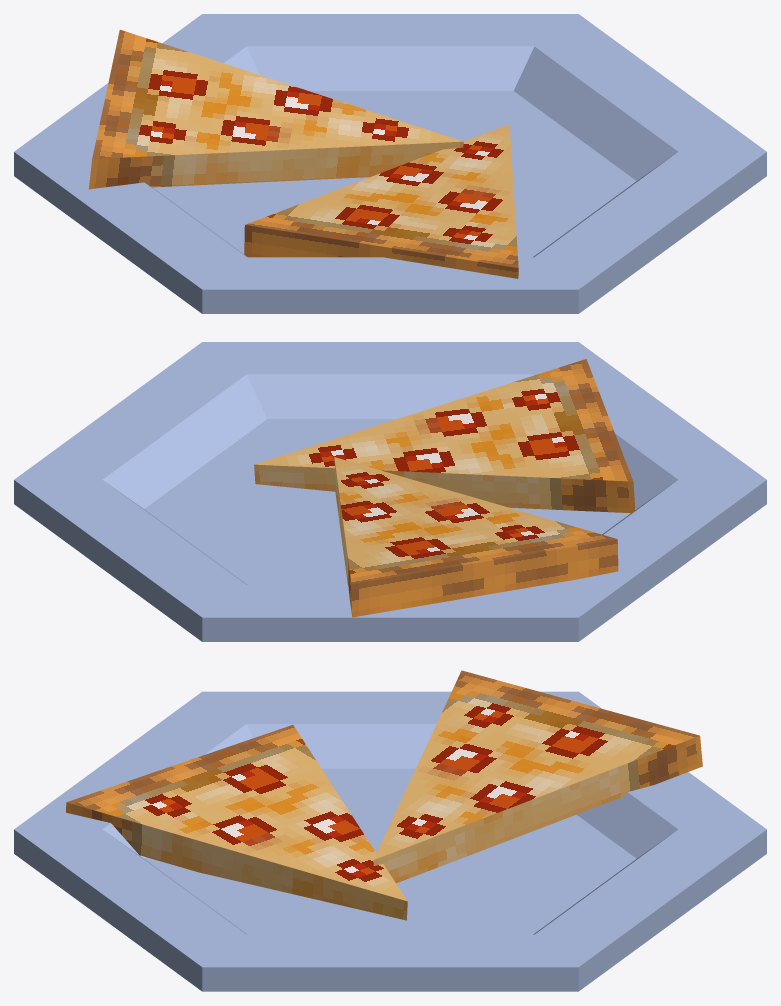
Rendered from PizzaPlate.fbx.
The picture shows the model from 3 angles, top to bottom: view 1: azimuth 30°, elevation 25°; view 2: azimuth 150°, elevation 25°; view 3: azimuth 270°, elevation 25°; orthographic projection.
Parts seen in each view (by area): view 1: Plate.001, Pizza.001, Pizza; view 2: Plate.001, Pizza, Pizza.001; view 3: Plate.001, Pizza.001, Pizza.
Boxes of the visible parts, x1,y1,x2,y2 form: Plate.001: (14, 14, 766, 313); Pizza.001: (89, 29, 463, 189); Pizza: (244, 124, 518, 278); Plate.001: (14, 342, 766, 641); Pizza: (254, 359, 635, 513); Pizza.001: (334, 457, 618, 617); Plate.001: (14, 691, 766, 991); Pizza.001: (373, 670, 702, 883); Pizza: (66, 725, 407, 920).
Size of the model in its own units: 48.5 by 6.68 by 56.
